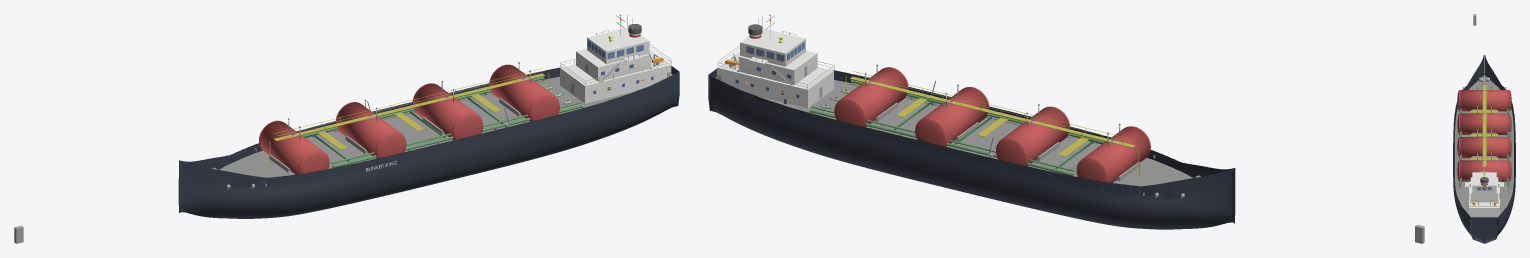
File: bunkering_vessel_complete.glb
The picture shows the model from 3 angles, left to right: view 1: azimuth 30°, elevation 25°; view 2: azimuth 150°, elevation 25°; view 3: azimuth 270°, elevation 25°; orthographic projection. The views are drawn at different scales.
Visible parts, largest first — view 1: Hull, Deck, Bulwark, Deckhouse_L1, Tank_1, Tank_4, Tank_2, Tank_3, Deckhouse_Bridge, Deckhouse_L2, Main_Catwalk, Tank_3_Cap_-7.2 (+5 smaller); view 2: Hull, Deck, Bulwark, Deckhouse_L1, Tank_1, Tank_2, Tank_3, Tank_4, Deckhouse_Bridge, Deckhouse_L2, Main_Catwalk, Tank_3_Cap_7.2 (+6 smaller); view 3: Hull, Deck, Tank_2, Tank_1, Tank_3, Tank_4, Deckhouse_L1, Deckhouse_Bridge, Main_Catwalk, Deckhouse_L2, SternTransom, Bulwark (+20 smaller).
Boxes of the visible parts, left/top/right/bottom form: Hull: left=178, top=72, right=679, bottom=218; Deck: left=219, top=74, right=672, bottom=177; Bulwark: left=230, top=67, right=672, bottom=188; Deckhouse_L1: left=560, top=49, right=671, bottom=103; Tank_1: left=259, top=121, right=323, bottom=174; Tank_4: left=490, top=65, right=552, bottom=121; Tank_2: left=336, top=102, right=400, bottom=158; Tank_3: left=413, top=83, right=476, bottom=140; Deckhouse_Bridge: left=587, top=27, right=649, bottom=63; Deckhouse_L2: left=576, top=48, right=650, bottom=81; Main_Catwalk: left=274, top=73, right=544, bottom=141; Tank_3_Cap_-7.2: left=452, top=112, right=483, bottom=139; Hull: left=708, top=75, right=1235, bottom=229; Deck: left=716, top=77, right=1192, bottom=186; Bulwark: left=715, top=70, right=1181, bottom=197; Deckhouse_L1: left=717, top=51, right=833, bottom=108; Tank_1: left=1083, top=126, right=1150, bottom=182; Tank_2: left=1002, top=107, right=1069, bottom=166; Tank_3: left=922, top=87, right=988, bottom=146; Tank_4: left=841, top=67, right=907, bottom=126; Deckhouse_Bridge: left=740, top=28, right=805, bottom=66; Deckhouse_L2: left=738, top=50, right=817, bottom=84; Main_Catwalk: left=850, top=76, right=1135, bottom=147; Tank_3_Cap_7.2: left=915, top=117, right=947, bottom=146; Hull: left=1453, top=55, right=1515, bottom=243; Deck: left=1455, top=73, right=1513, bottom=213; Tank_2: left=1460, top=113, right=1508, bottom=134; Tank_1: left=1460, top=90, right=1508, bottom=111; Tank_3: left=1460, top=137, right=1508, bottom=158; Tank_4: left=1460, top=160, right=1508, bottom=181; Deckhouse_L1: left=1469, top=181, right=1499, bottom=217; Deckhouse_Bridge: left=1472, top=172, right=1496, bottom=193; Main_Catwalk: left=1482, top=85, right=1486, bottom=166; Deckhouse_L2: left=1470, top=177, right=1498, bottom=202; SternTransom: left=1471, top=217, right=1497, bottom=243; Bulwark: left=1453, top=85, right=1515, bottom=218.
Bounding box in the file's own units: 138 × 22.7 × 18.12.
